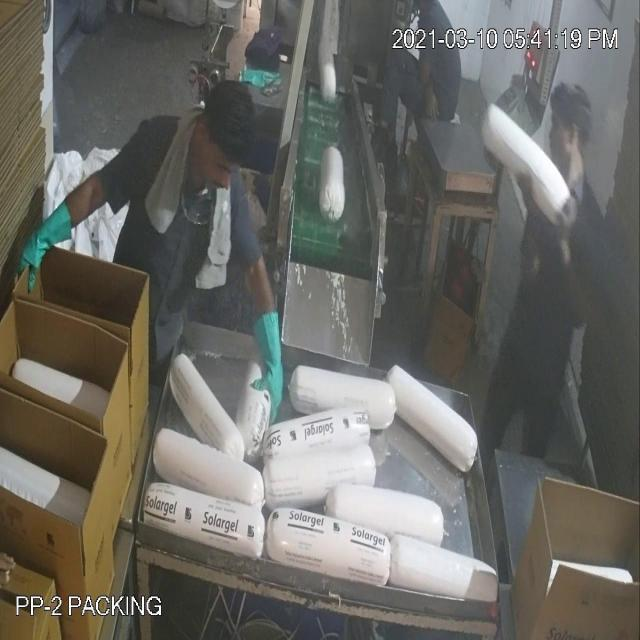Gloves: (46, 107, 570, 358)
